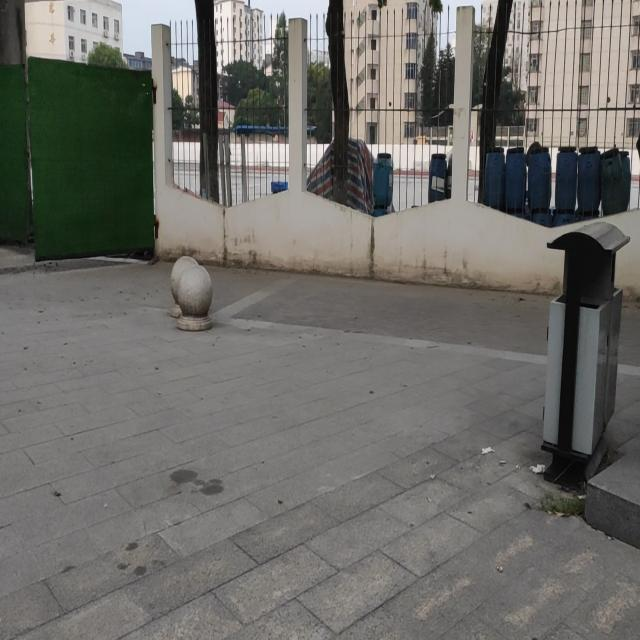ash bin: (540, 218, 629, 484)
spherical_roadblock: (178, 263, 213, 329), (170, 256, 200, 315)
